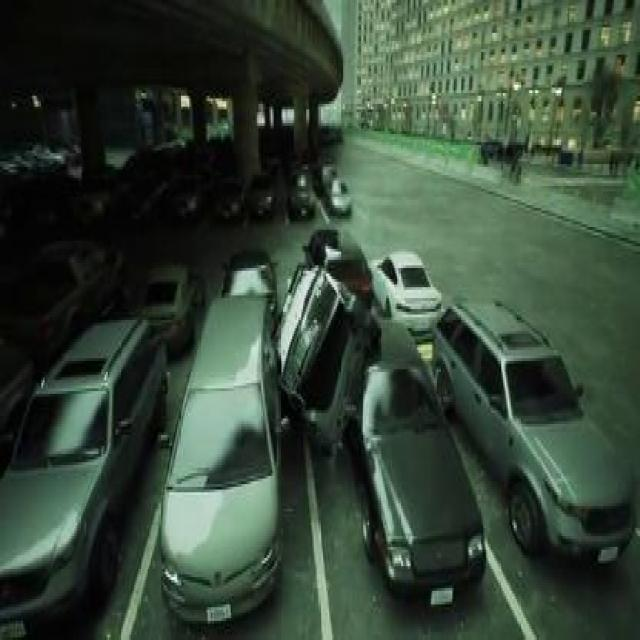accident: (269, 254, 488, 616)
